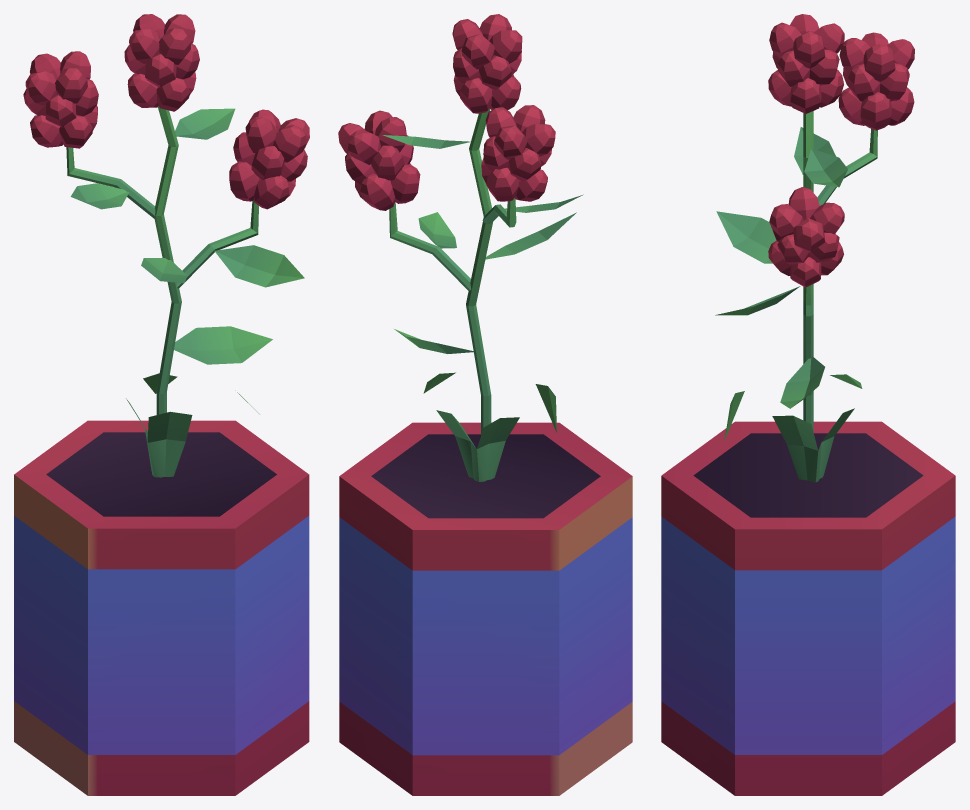
Rendered from berries-cut.glb.
3 views of the same model, side by side, from view 1: azimuth 30°, elevation 25°; view 2: azimuth 150°, elevation 25°; view 3: azimuth 270°, elevation 25° (orthographic).
Parts seen in each view (by area): view 1: Berrys, Berrys_sep41, Berrys_sep39, Berrys_sep48; view 2: Berrys, Berrys_sep41, Berrys_sep39, Berrys_sep48; view 3: Berrys, Berrys_sep41, Berrys_sep39, Berrys_sep48.
Boxes of the visible parts, x1,y1,x2,y2 form: Berrys: (14, 106, 309, 795); Berrys_sep41: (175, 108, 309, 209); Berrys_sep39: (23, 51, 129, 209); Berrys_sep48: (124, 14, 199, 111); Berrys: (339, 108, 632, 795); Berrys_sep41: (338, 110, 470, 210); Berrys_sep39: (481, 105, 583, 212); Berrys_sep48: (452, 14, 522, 113); Berrys: (661, 111, 955, 795); Berrys_sep41: (768, 149, 847, 287); Berrys_sep39: (794, 32, 914, 174); Berrys_sep48: (768, 14, 844, 113).
Bounding box in the file's own units: 1.21 × 3.24 × 1.2.
Materials: 1 (1 with a texture image).
